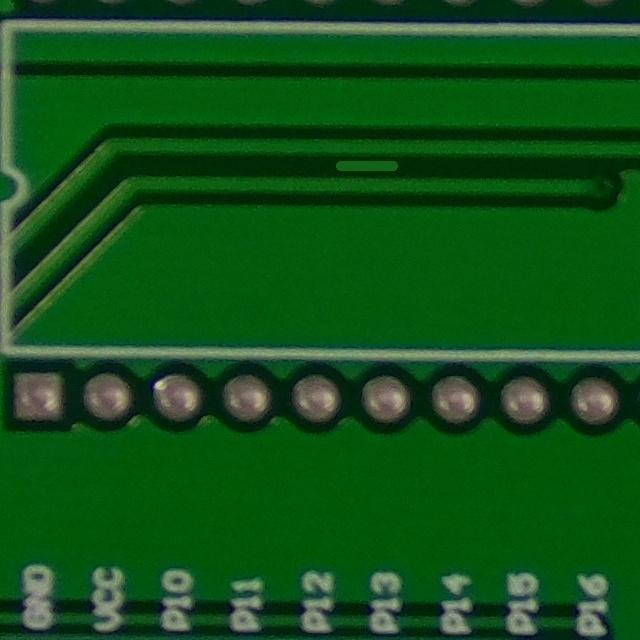spurious_copper: (323, 145, 415, 189)
